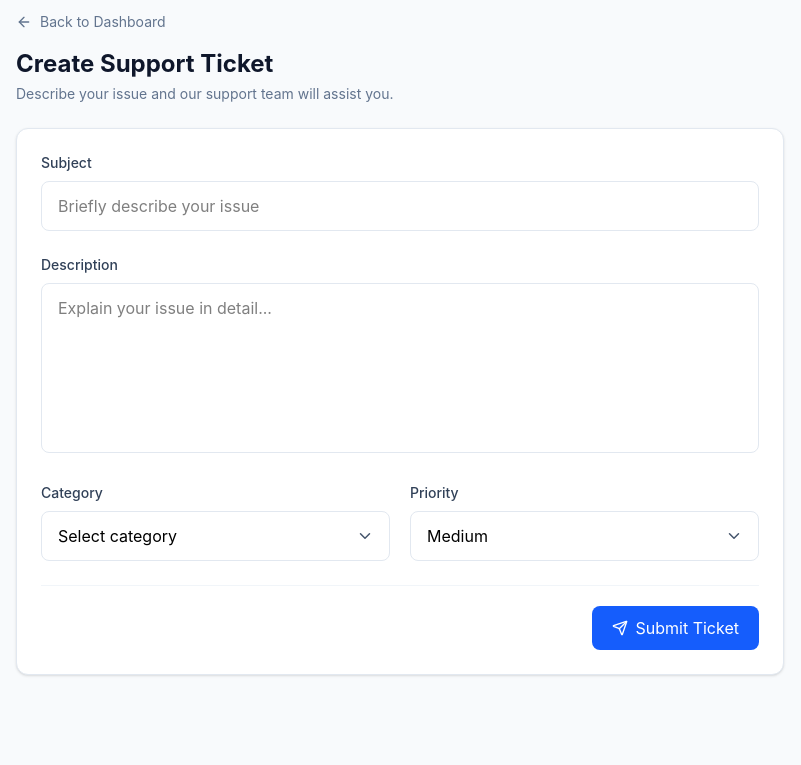
it: CreateTicketPage › validates required ticket fields before submitting
Click the button "Submit Ticket" at coordinates (675, 628), box [592,606,759,650]
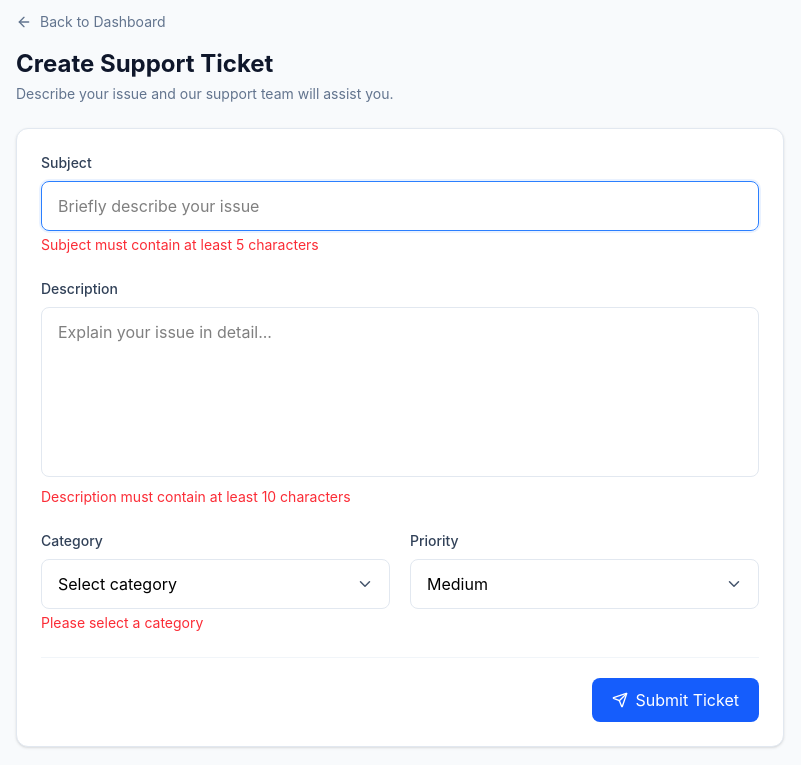
Now the text "Subject must contain at least 5 characters" is shown, box [41,236,319,253]
Now the text "Please select a category" is shown, box [41,614,203,631]
